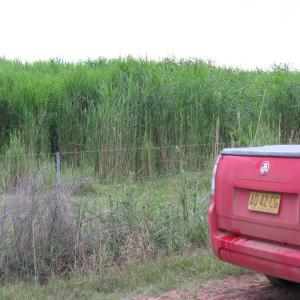Vehicle-registration-plate: (248, 192, 282, 215)
